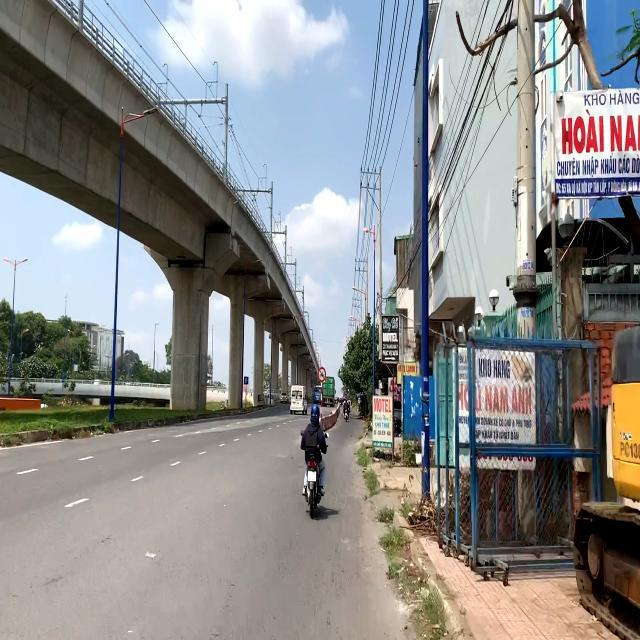P-104: (318, 367, 326, 383)
R-409: (244, 376, 248, 385)
